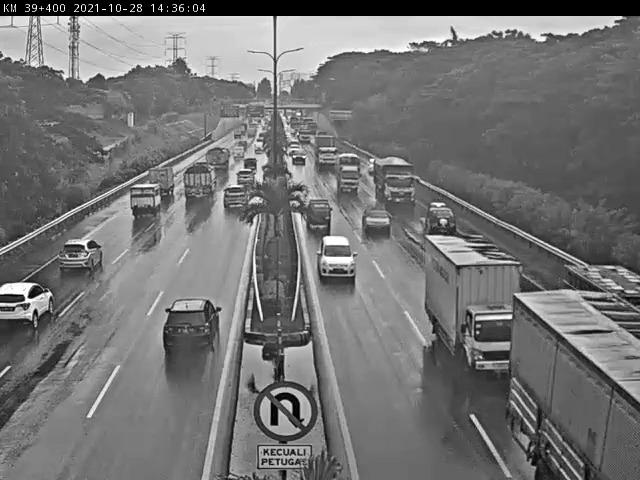big truck: (479, 247, 637, 480), (373, 154, 410, 197), (187, 165, 208, 201), (314, 135, 331, 170), (198, 146, 225, 165)
car: (141, 290, 219, 363), (1, 288, 40, 351), (36, 252, 81, 296), (119, 190, 156, 227), (325, 243, 352, 285), (360, 198, 384, 230), (222, 190, 242, 225), (418, 193, 440, 221), (306, 188, 325, 215), (236, 174, 252, 193), (293, 148, 306, 170), (247, 156, 260, 173)
small truck: (427, 220, 518, 340), (335, 155, 358, 190), (140, 173, 167, 196)
